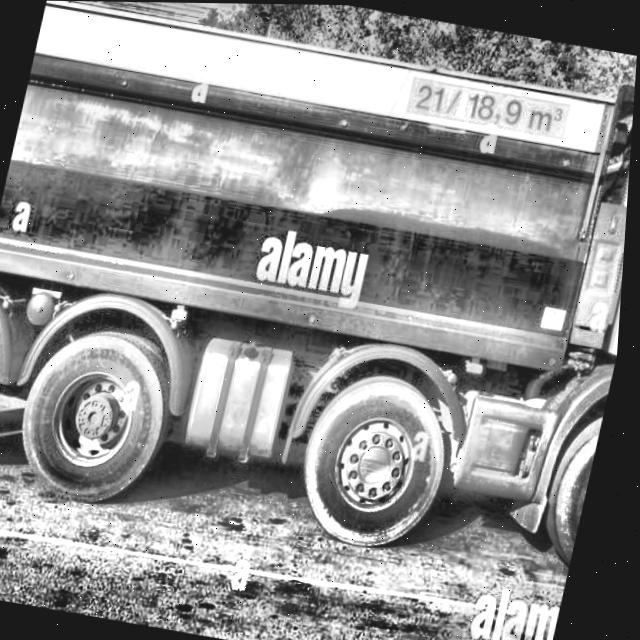dump_truck: (0, 0, 640, 610)
